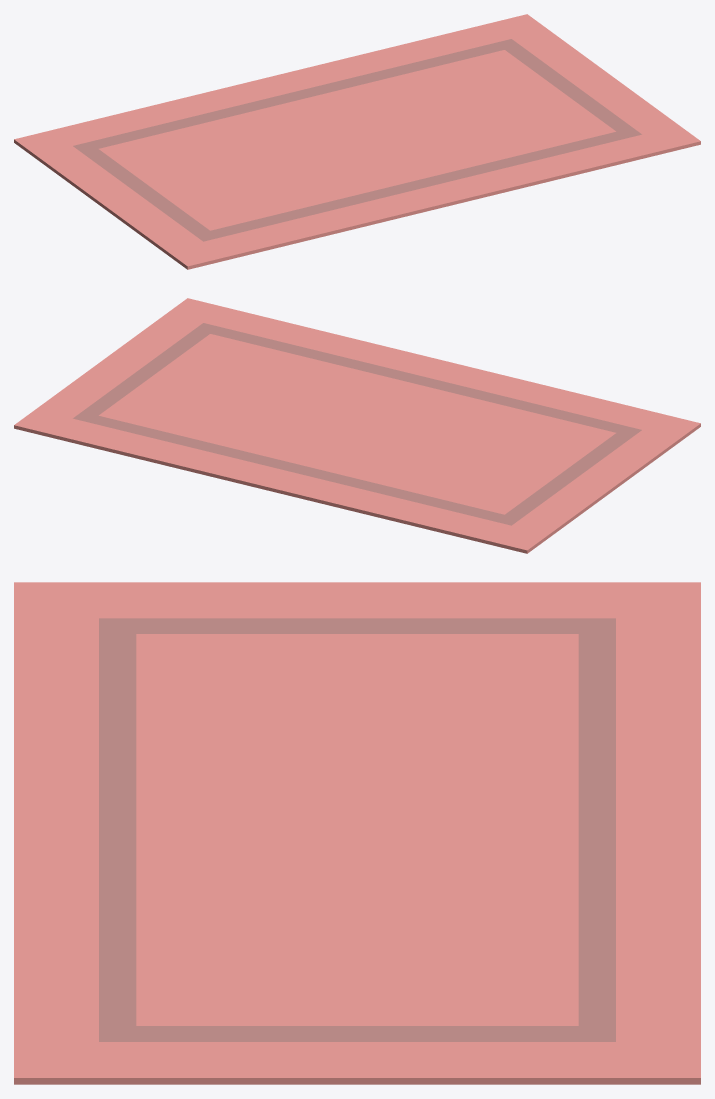
File: rug-rectangle.glb
The picture shows the model from 3 angles, top to bottom: view 1: azimuth 30°, elevation 25°; view 2: azimuth 150°, elevation 25°; view 3: azimuth 270°, elevation 25°; orthographic projection. The views are drawn at different scales.
Visible parts, largest first — view 1: Mesh0, Mesh1; view 2: Mesh0, Mesh1; view 3: Mesh0, Mesh1.
Boxes of the visible parts, x1,y1,x2,y2 form: Mesh0: [14, 14, 700, 269]; Mesh1: [73, 39, 641, 241]; Mesh0: [14, 298, 700, 553]; Mesh1: [73, 323, 641, 525]; Mesh0: [14, 582, 700, 1084]; Mesh1: [99, 618, 615, 1041].
Size of the model in its own units: 1.57 by 0.01 by 0.92.
